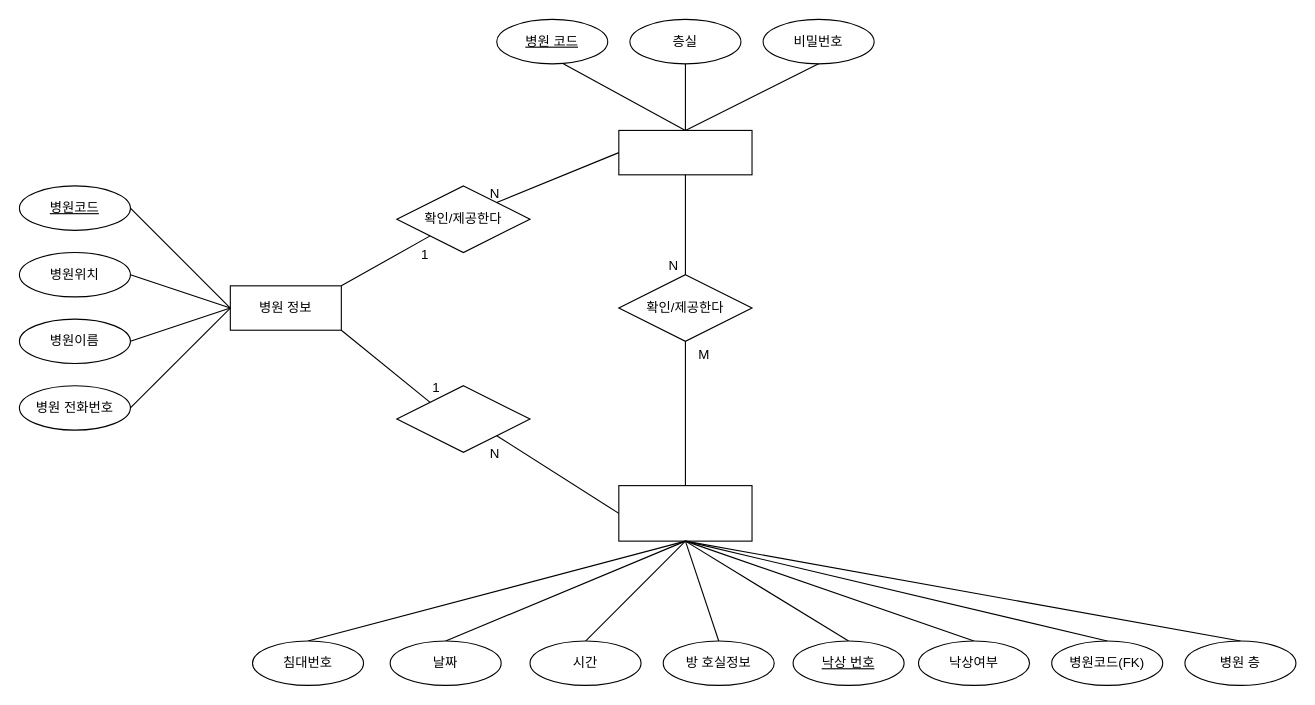
Some shapes in this 1315 by 705 pixel diagram are drawn without their labels. Each missing label, with the box of its shape:
낙상 정보: (618, 485, 752, 541)
사용자: (618, 129, 752, 175)
포함한다: (396, 385, 530, 452)
